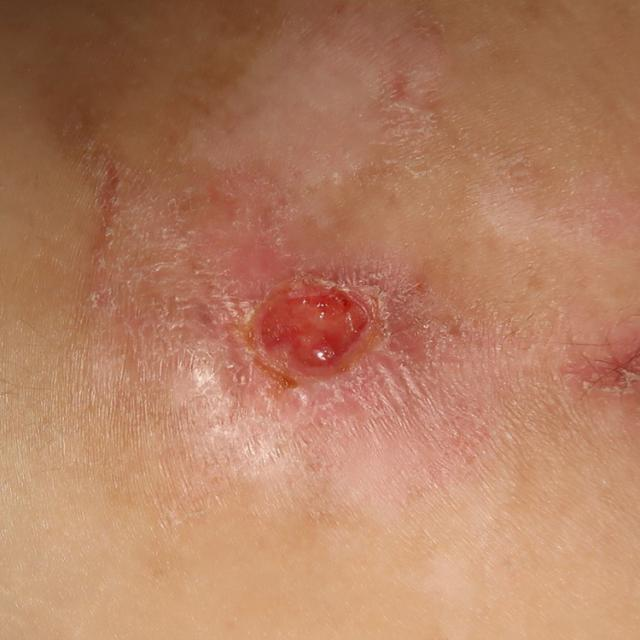stage-2: (255, 288, 365, 369)
